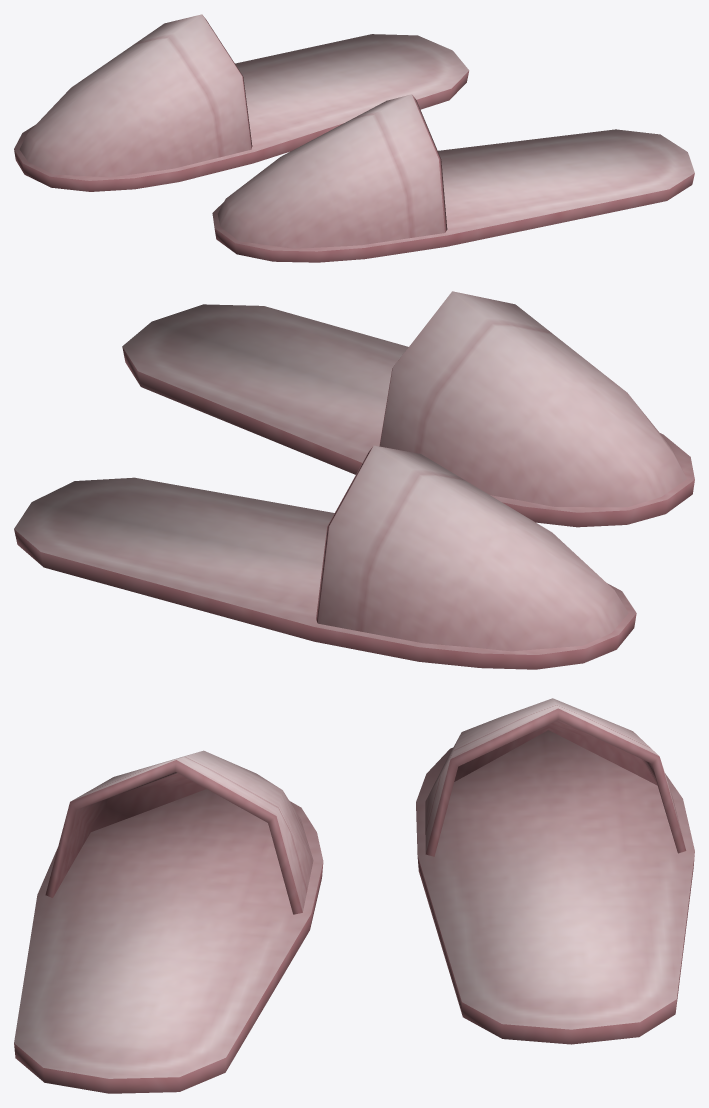
File: SiWangPenQuan_01_tuoxie_01.FBX
3 renders of one model, top to bottom at view 1: azimuth 30°, elevation 25°; view 2: azimuth 150°, elevation 25°; view 3: azimuth 270°, elevation 25°, orthographic. The views are drawn at different scales.
Visible parts, largest first — view 1: SiWangPenQuan_01_tuoxie_01; view 2: SiWangPenQuan_01_tuoxie_01; view 3: SiWangPenQuan_01_tuoxie_01.
Boxes of the visible parts, <box> form: SiWangPenQuan_01_tuoxie_01: <box>14,14,694,262</box>; SiWangPenQuan_01_tuoxie_01: <box>14,291,694,669</box>; SiWangPenQuan_01_tuoxie_01: <box>14,698,694,1093</box>.
Bounding box in the file's own units: 156 × 33.32 × 127.
